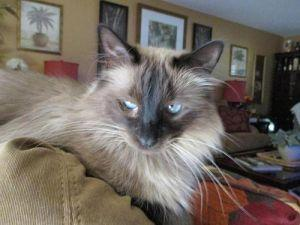siamese: (89, 16, 232, 168)
